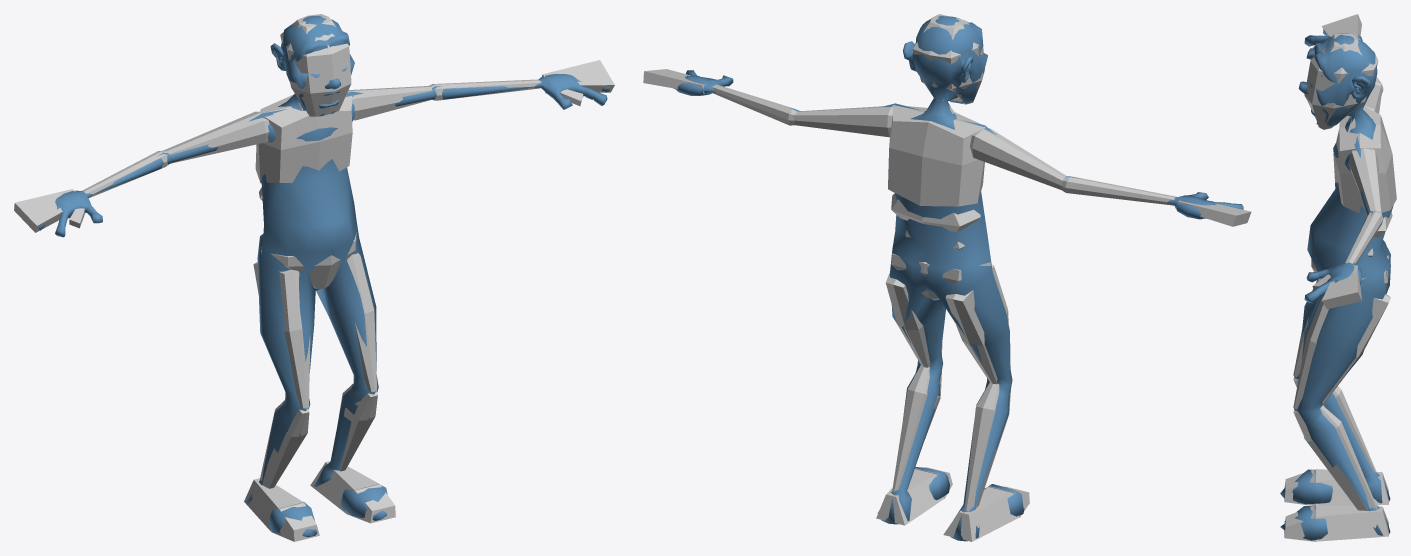
File: happy.obj
3 views of the same model, side by side, from view 1: azimuth 30°, elevation 25°; view 2: azimuth 150°, elevation 25°; view 3: azimuth 270°, elevation 25° (orthographic). The views are drawn at different scales.
Visible parts, largest first — view 1: BodyMaquette_lowpoly_body, Ludwig_meLudwig; view 2: BodyMaquette_lowpoly_body, Ludwig_meLudwig; view 3: Ludwig_meLudwig, BodyMaquette_lowpoly_body.
Boxes of the visible parts, left/top/right/bottom form: BodyMaquette_lowpoly_body: left=14, top=14, right=614, bottom=541; Ludwig_meLudwig: left=39, top=16, right=609, bottom=537; BodyMaquette_lowpoly_body: left=643, top=14, right=1251, bottom=541; Ludwig_meLudwig: left=673, top=16, right=1243, bottom=541; Ludwig_meLudwig: left=1280, top=29, right=1393, bottom=540; BodyMaquette_lowpoly_body: left=1284, top=14, right=1396, bottom=541.
Size of the model in its own units: 17.03 by 13.63 by 3.02.
